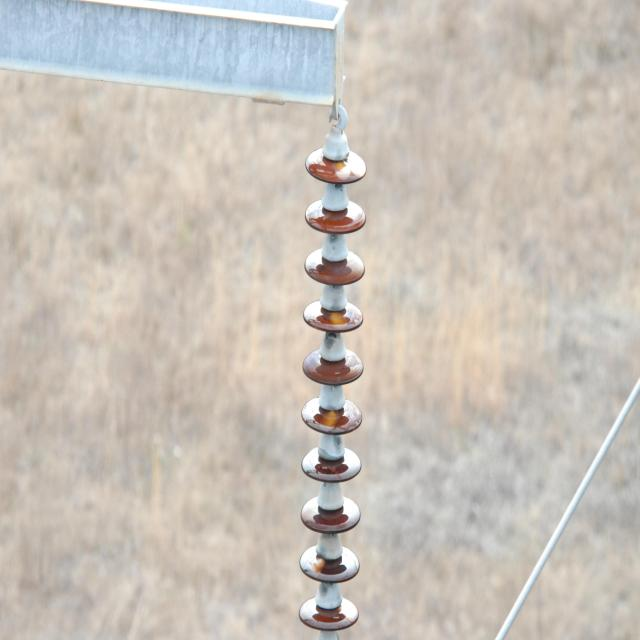insulator: (299, 145, 366, 629)
